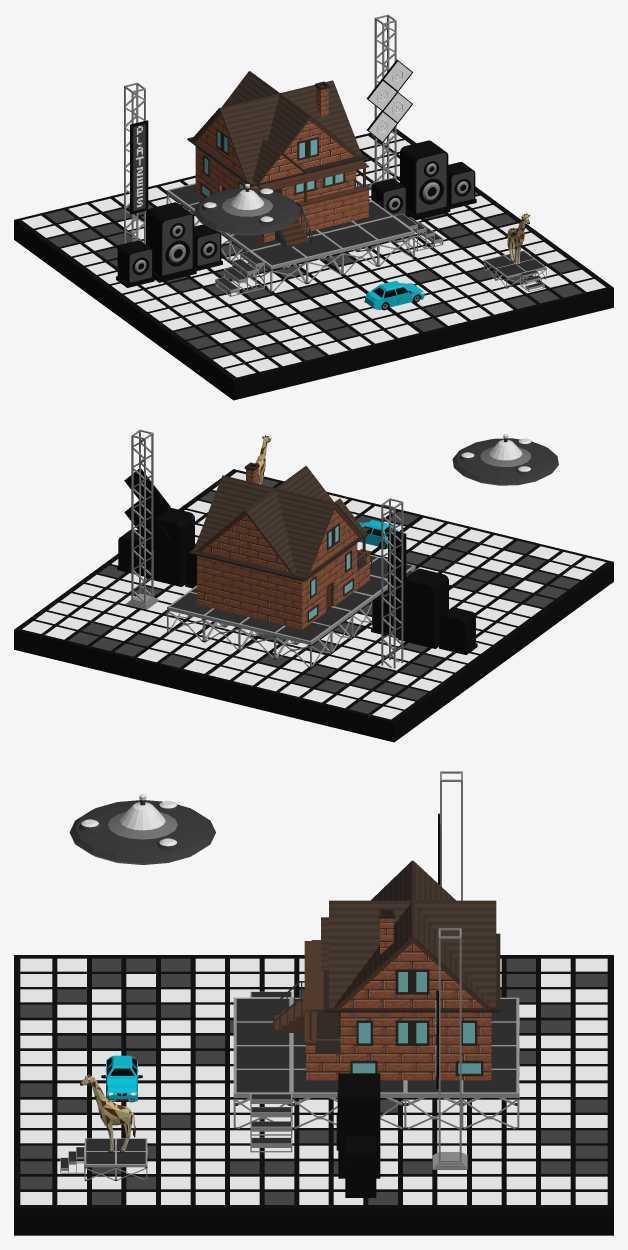
3 views of the same model, one above another, from view 1: azimuth 30°, elevation 25°; view 2: azimuth 150°, elevation 25°; view 3: azimuth 270°, elevation 25° (orthographic). The views are drawn at different scales.
Visible parts, largest first — view 1: Cube.008, Cube.469, OBJRANDOM_UFO, VEHICLES_CAR, ANIMAL_JIRAFA; view 2: Cube.008, Cube.469, OBJRANDOM_UFO, VEHICLES_CAR; view 3: Cube.008, Cube.469, OBJRANDOM_UFO, VEHICLES_CAR, ANIMAL_JIRAFA.
Part boxes in pixels (x1,y1,x2,y2): Cube.008: (14,14,613,400); Cube.469: (187,71,371,248); OBJRANDOM_UFO: (194,183,300,235); VEHICLES_CAR: (364,281,424,310); ANIMAL_JIRAFA: (507,213,530,265); Cube.008: (14,429,613,742); Cube.469: (189,462,372,629); OBJRANDOM_UFO: (452,434,558,485); VEHICLES_CAR: (359,520,400,549); Cube.008: (14,771,613,1235); Cube.469: (272,860,500,1080); OBJRANDOM_UFO: (69,794,215,864); VEHICLES_CAR: (101,1055,142,1102); ANIMAL_JIRAFA: (80,1073,135,1152).
Bounding box in the file's own units: 4000 × 1922 × 4000.
39 materials, 3 textured.
